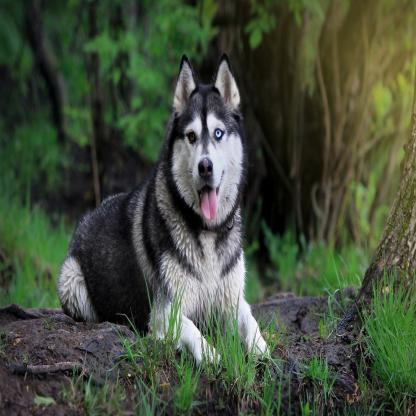dog: (58, 55, 273, 369)
